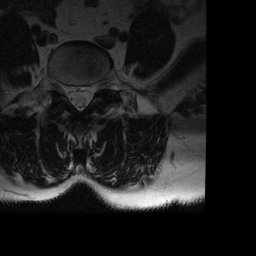CCS_normal: (75, 77, 83, 116)
LFS_normal: (93, 73, 102, 98)
LLS_normal: (83, 80, 93, 108)
RFS_normal: (56, 75, 66, 100)
RLS_normal: (66, 78, 75, 109)
